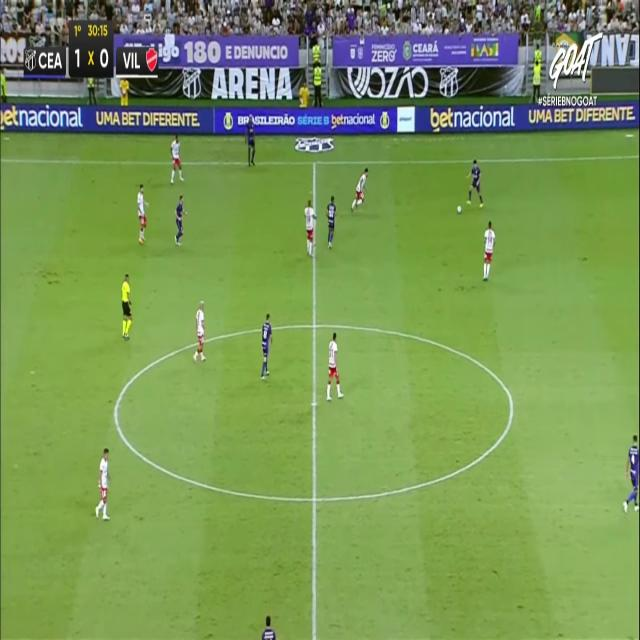ball: (455, 203, 464, 221)
player: (622, 433, 639, 512), (326, 331, 344, 400), (95, 447, 111, 520), (465, 158, 483, 207), (482, 220, 496, 280), (350, 166, 368, 212), (193, 299, 206, 362), (260, 313, 272, 379), (304, 198, 317, 256), (137, 183, 149, 243), (170, 133, 184, 184), (174, 194, 187, 245), (245, 113, 256, 166), (326, 194, 336, 249), (262, 612, 278, 640)
referee: (121, 273, 132, 339)
